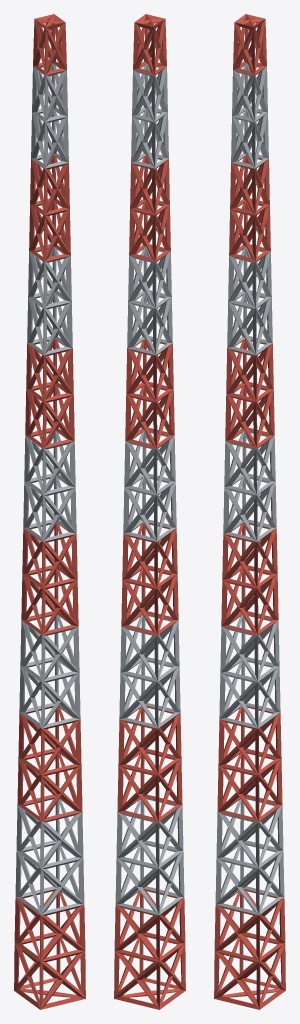
File: radio_tower.glb
3 views of the same model, side by side, from view 1: azimuth 30°, elevation 25°; view 2: azimuth 150°, elevation 25°; view 3: azimuth 330°, elevation 25° (orthographic).
Visible parts, largest first — view 1: Radio tower; view 2: Radio tower; view 3: Radio tower.
Boxes of the visible parts, bbox=[...] form: Radio tower: bbox=[14, 14, 85, 1009]; Radio tower: bbox=[114, 14, 185, 1009]; Radio tower: bbox=[214, 14, 285, 1009].
Size of the model in its own units: 2.02 by 40.2 by 2.02.
